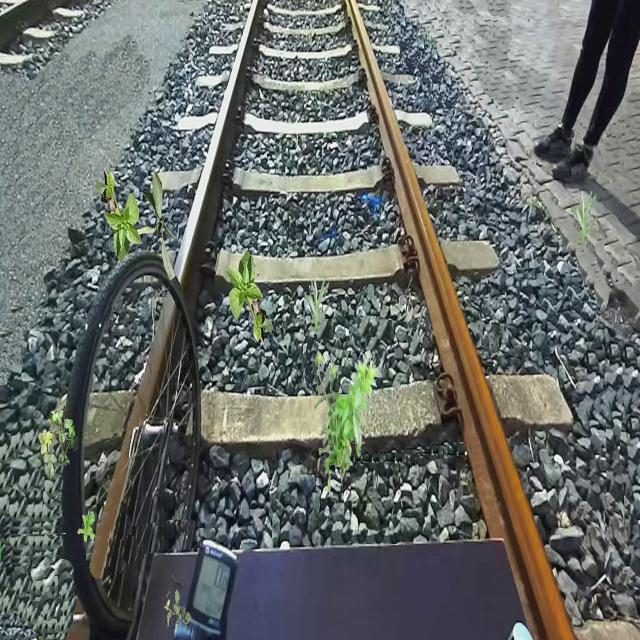Plant: (314, 350, 378, 493), (225, 250, 273, 345), (95, 168, 143, 263), (137, 171, 177, 281), (38, 406, 76, 479), (571, 188, 598, 244), (304, 276, 331, 332), (164, 590, 192, 631), (77, 511, 94, 543)
